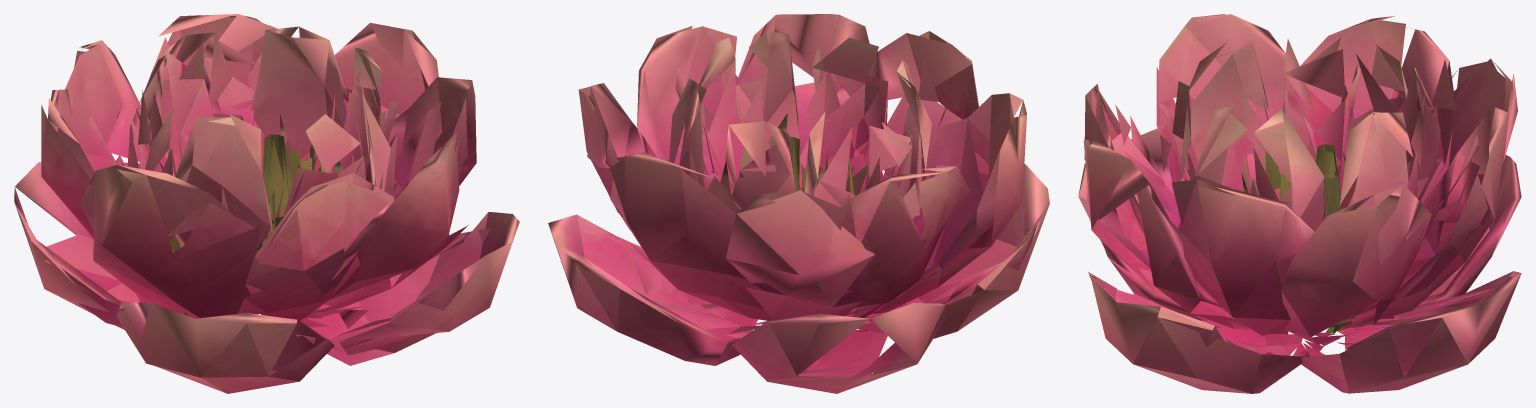
File: qr-peony.glb
3 renders of one model, left to right at view 1: azimuth 30°, elevation 25°; view 2: azimuth 150°, elevation 25°; view 3: azimuth 270°, elevation 25°, orthographic. The views are drawn at different scales.
Parts seen in each view (by area): view 1: mesh_node; view 2: mesh_node; view 3: mesh_node.
Part boxes in pixels (x1=…): mesh_node: x1=14, y1=14, x2=519, y2=393; mesh_node: x1=548, y1=14, x2=1049, y2=393; mesh_node: x1=1078, y1=14, x2=1521, y2=393.
Bounding box in the file's own units: 2 × 1.41 × 1.97.
Materials: 1 (1 with a texture image).
